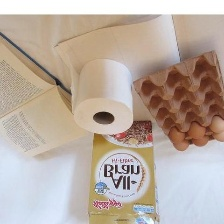book: (0, 29, 95, 161), (82, 115, 163, 224)
tissue: (48, 15, 188, 140)
